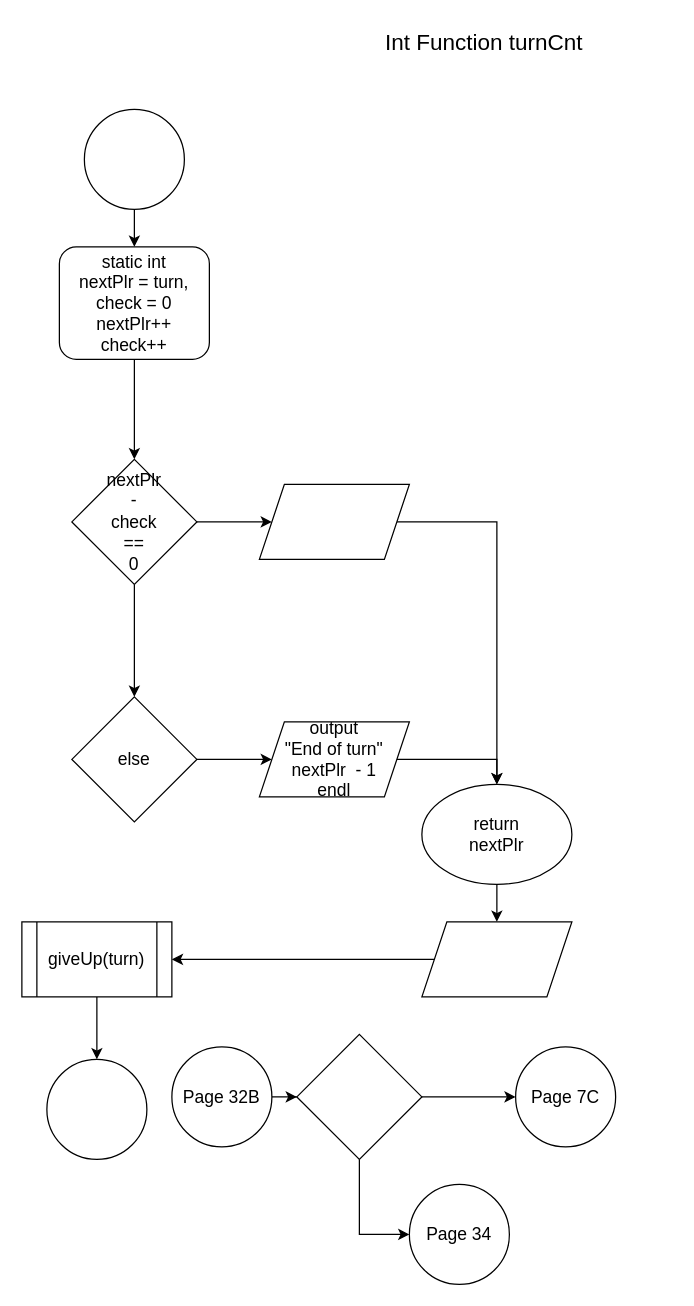
This 694x1306 diagram has some shape labels left out. The shapes that lost their labels are listed below. From the top down, each one's box as (x1, y1, x2, y2) in pixels, then its label:
(83, 108, 184, 209): Page 32A
(258, 483, 409, 559): output "End of turn" nextPlr endl
(421, 921, 572, 997): turn = nextPlr
(46, 1058, 147, 1159): Page 33
(296, 1033, 422, 1159): giveUp(turn) either true or false
